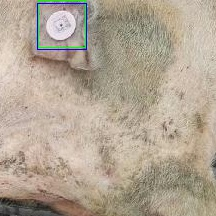text: (38, 0, 85, 47)
